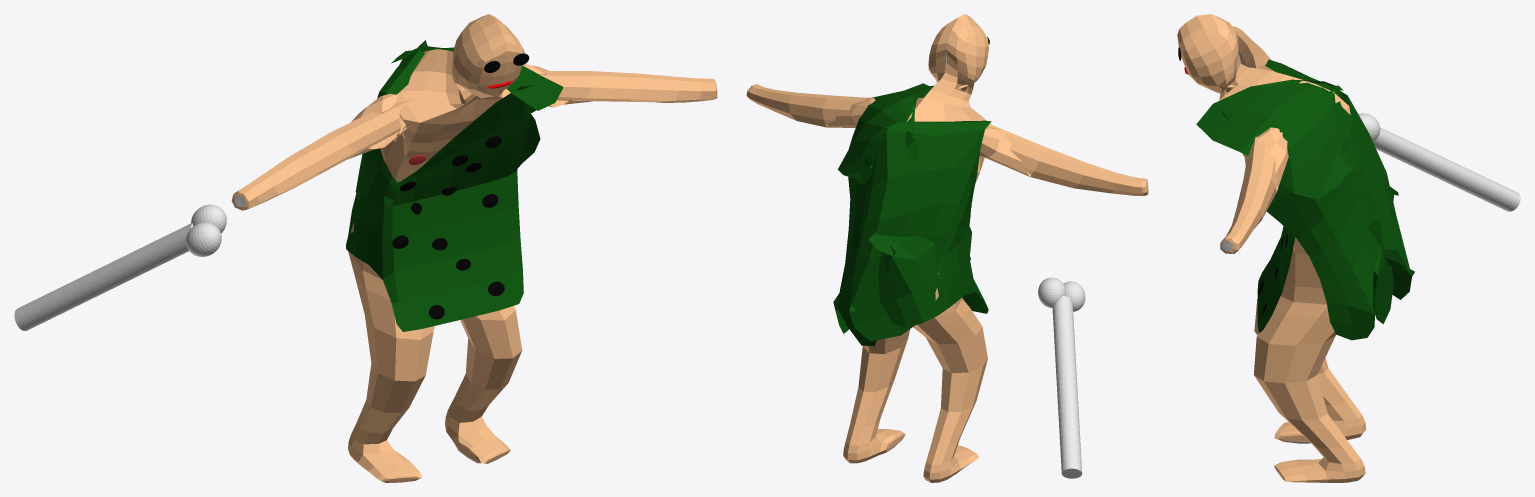
File: pravěk3.fbx
3 renders of one model, left to right at view 1: azimuth 30°, elevation 25°; view 2: azimuth 150°, elevation 25°; view 3: azimuth 270°, elevation 25°, orthographic. The views are drawn at different scales.
Visible parts, largest first — view 1: Cube, Plane, Cylinder, Sphere.017; view 2: Plane, Cube, Cylinder, Sphere.018, Sphere.017; view 3: Plane, Cube, Cylinder.
Part boxes in pixels (bbox=[...]): Cube: bbox=[231, 14, 717, 482]; Plane: bbox=[346, 40, 563, 331]; Cylinder: bbox=[14, 223, 193, 330]; Sphere.017: bbox=[186, 222, 221, 256]; Plane: bbox=[833, 83, 991, 346]; Cube: bbox=[746, 14, 1148, 482]; Cylinder: bbox=[1052, 296, 1082, 478]; Sphere.018: bbox=[1038, 277, 1065, 307]; Sphere.017: bbox=[1063, 281, 1085, 311]; Plane: bbox=[1196, 59, 1414, 340]; Cube: bbox=[1177, 14, 1366, 482]; Cylinder: bbox=[1373, 127, 1520, 211].
Size of the model in its own units: 329 by 279 by 195.
